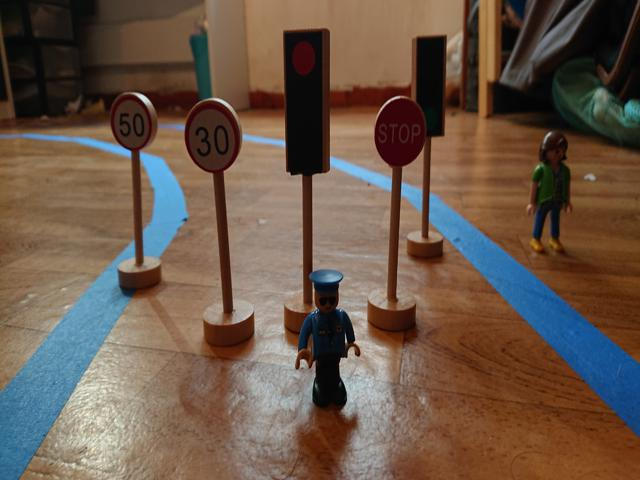30 speed sign: (183, 102, 241, 172)
50 speed sign: (108, 93, 154, 153)
green light: (415, 39, 442, 132)
person: (293, 269, 360, 411), (526, 129, 573, 256)
red light: (286, 35, 323, 163)
stop sign: (374, 96, 425, 168)
